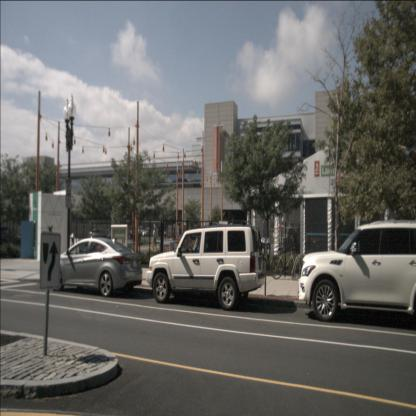human-pedestrian-adult: (152, 226, 158, 252)
vehicle-bicycle: (270, 238, 303, 279)
vehicle-car: (298, 219, 415, 323), (146, 226, 265, 310), (49, 238, 142, 297), (88, 229, 106, 240), (142, 227, 153, 237)
